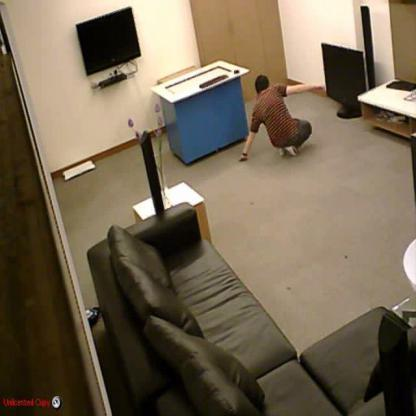Person: (238, 75, 326, 161)
